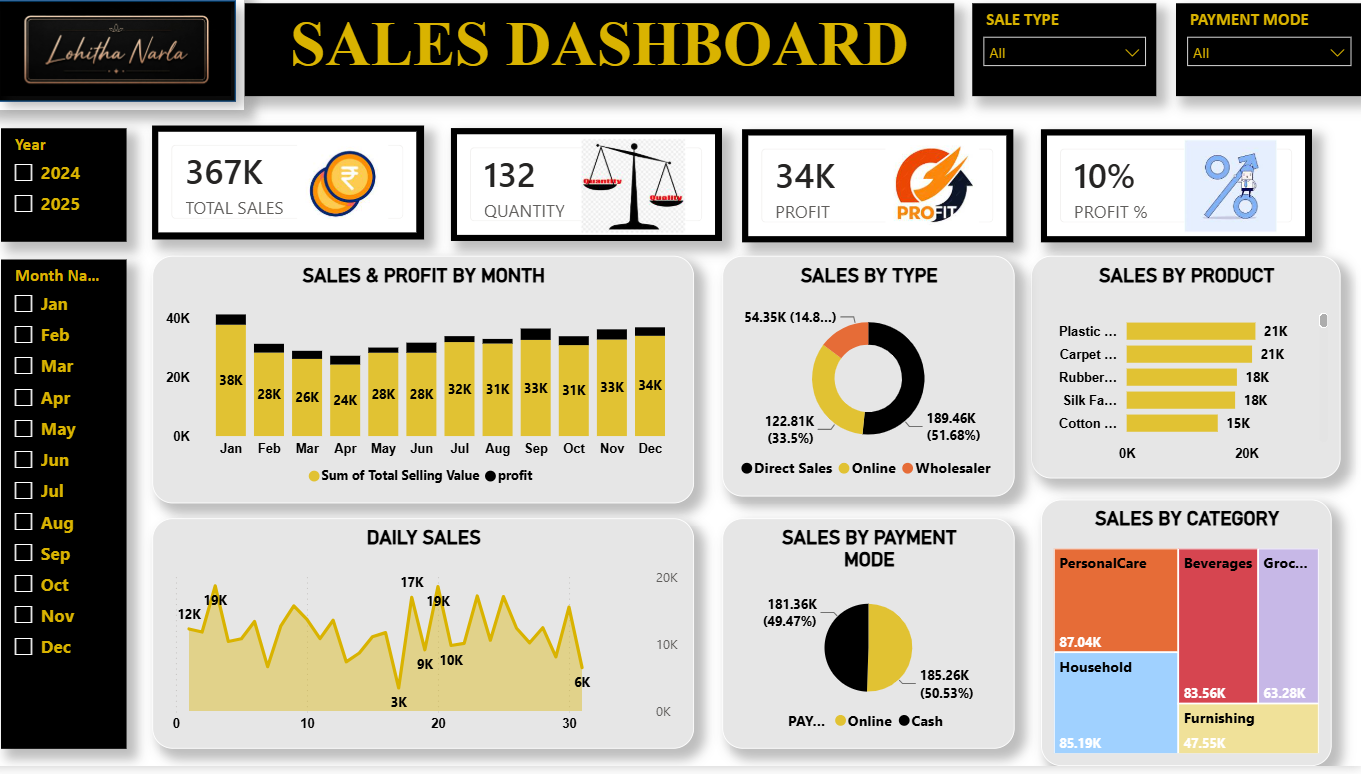

What the dashboard file says about the page in this screenshot:
{"tool":"powerbi","page":{"name":"SALES DASHBOARD","canvas":[1280,720],"ordinal":0},"visuals":[{"type":"shape","box":[0,0,240.1,109.8],"z":0},{"type":"image","box":[13.7,11,214.1,86.4],"z":1000},{"type":"textbox","box":[240.1,11,660,86.4],"z":2000},{"type":"slicer","fields":{"Values":["InputData.Year"]},"box":[13.7,126.2,116.6,105.7],"z":3000},{"type":"slicer","fields":{"Values":["InputData.Month Name"]},"box":[13.7,248.4,116.6,455.6],"z":4000},{"type":"slicer","fields":{"Values":["InputData.SALE TYPE"]},"box":[918,11,171.5,86.4],"z":5000},{"type":"slicer","fields":{"Values":["InputData.PAYMENT MODE"]},"box":[1107.4,11,172.9,86.4],"z":6000},{"type":"cardVisual","fields":{"Data":["Sum(InputData.Total Selling Value)"]},"box":[155.1,124.9,252.5,105.7],"z":7000},{"type":"cardVisual","fields":{"Data":["InputData.profit %"]},"box":[981.1,127.6,252,105],"z":8000},{"type":"cardVisual","fields":{"Data":["InputData.profit"]},"box":[703.9,127.6,252,105],"z":9000},{"type":"cardVisual","fields":{"Data":["Sum(InputData.QUANTITY)"]},"box":[432.2,126.2,252,105],"z":10000},{"type":"image","box":[269,135.8,126.2,85.1],"z":11000},{"type":"image","box":[544.8,135.8,113.9,89.2],"z":12000},{"type":"image","box":[1082.7,137.2,150.9,86.4],"z":13000},{"type":"image","box":[830.2,134.5,100.2,87.8],"z":14000},{"type":"columnChart","title":"SALES & PROFIT BY MONTH","fields":{"Category":["InputData.Month Name"],"Y":["Sum(InputData.Total Selling Value)","InputData.profit"]},"box":[155.1,245.6,503.6,230.5],"z":15000},{"type":"areaChart","title":"DAILY SALES","fields":{"Category":["InputData.Day"],"Y2":["Sum(InputData.Total Selling Value)"]},"box":[155.1,489.9,503.6,214.1],"z":16000},{"type":"clusteredBarChart","title":"SALES BY PRODUCT","fields":{"Category":["InputData.MasterData.PRODUCT"],"Y":["Sum(InputData.Total Selling Value)"]},"box":[971.5,245.6,288.2,207.2],"z":17000},{"type":"treemap","title":"SALES BY CATEGORY","fields":{"Values":["Sum(InputData.Total Selling Value)"],"Group":["InputData.MasterData.CATEGORY"]},"box":[981.1,472,270.3,248.4],"z":18000},{"type":"donutChart","title":"SALES BY TYPE","fields":{"Y":["Sum(InputData.Total Selling Value)"],"Category":["InputData.SALE TYPE"]},"box":[684.7,245.6,271.7,223.7],"z":19000},{"type":"pieChart","title":"SALES BY PAYMENT MODE","fields":{"Y":["Sum(InputData.Total Selling Value)"],"Category":["InputData.PAYMENT MODE"]},"box":[685,490,272,214],"z":20000}]}

Visuals, with their boxes in screenshot pixels (x1, y1, x2, y2), scaled from the page's 1280x720 canvas onto the 1361x774 screenshot:
shape: box(0, 0, 255, 118)
image: box(15, 12, 242, 105)
textbox: box(255, 12, 957, 105)
slicer - InputData.Year: box(15, 136, 139, 249)
slicer - InputData.Month Name: box(15, 267, 139, 757)
slicer - InputData.SALE TYPE: box(976, 12, 1158, 105)
slicer - InputData.PAYMENT MODE: box(1177, 12, 1360, 105)
cardVisual - Sum(InputData.Total Selling Value): box(165, 134, 433, 248)
cardVisual - InputData.profit %: box(1043, 137, 1311, 250)
cardVisual - InputData.profit: box(748, 137, 1016, 250)
cardVisual - Sum(InputData.QUANTITY): box(460, 136, 727, 249)
image: box(286, 146, 420, 237)
image: box(579, 146, 700, 242)
image: box(1151, 147, 1312, 240)
image: box(883, 145, 989, 239)
"SALES & PROFIT BY MONTH" columnChart: box(165, 264, 700, 512)
"DAILY SALES" areaChart: box(165, 527, 700, 757)
"SALES BY PRODUCT" clusteredBarChart: box(1033, 264, 1339, 487)
"SALES BY CATEGORY" treemap: box(1043, 507, 1331, 773)
"SALES BY TYPE" donutChart: box(728, 264, 1017, 504)
"SALES BY PAYMENT MODE" pieChart: box(728, 527, 1018, 757)
